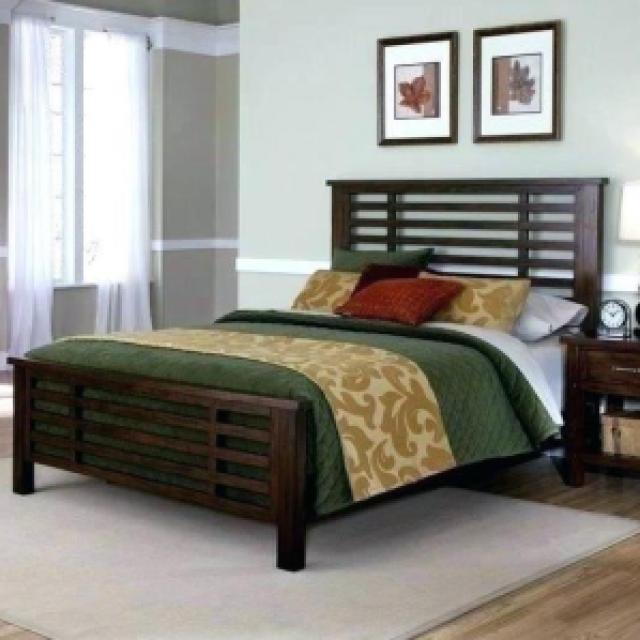Clean: (6, 4, 638, 636)
